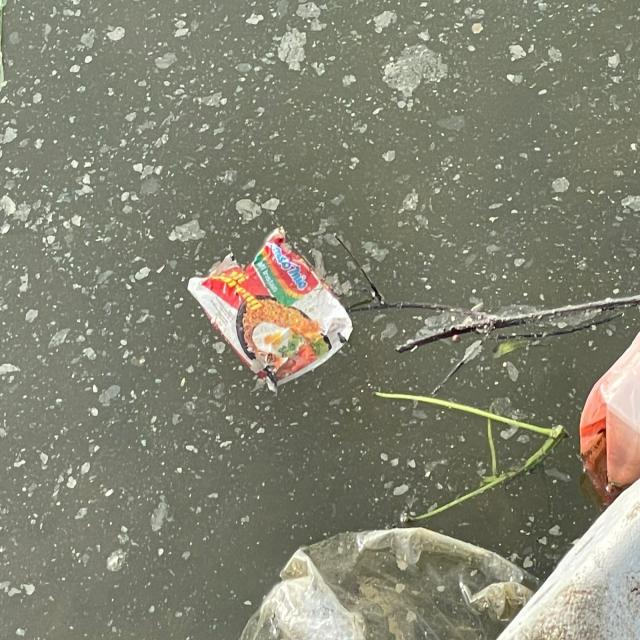Bungkus Makanan: (186, 223, 357, 396)
